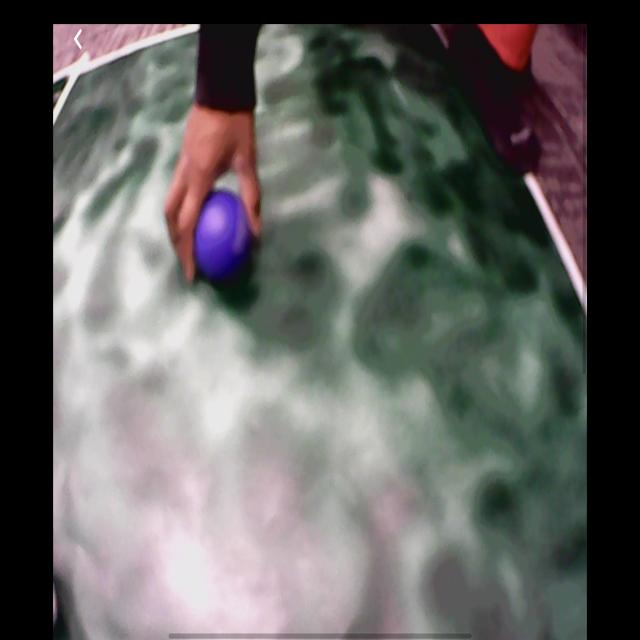ball: (189, 187, 251, 284)
